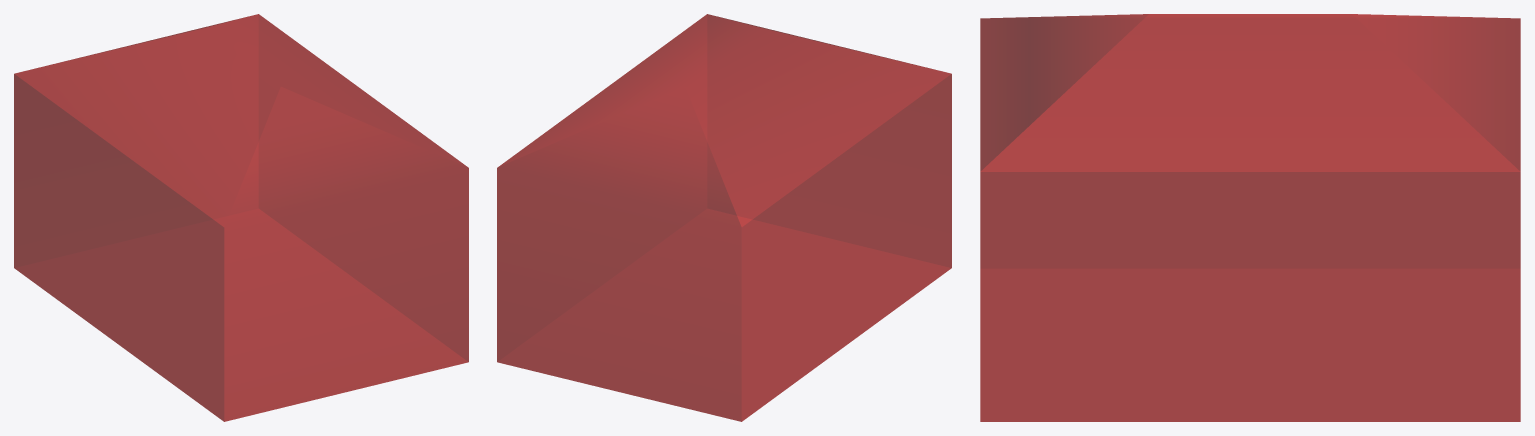
Rendered from SM_Bld_House_Preset_Garage_01_COLLISION.fbx.
The picture shows the model from 3 angles, left to right: view 1: azimuth 30°, elevation 25°; view 2: azimuth 150°, elevation 25°; view 3: azimuth 270°, elevation 25°; orthographic projection. The views are drawn at different scales.
Parts seen in each view (by area): view 1: SM_Bld_House_Preset_Garage_01_COLLISION; view 2: SM_Bld_House_Preset_Garage_01_COLLISION; view 3: SM_Bld_House_Preset_Garage_01_COLLISION.
Boxes of the visible parts, x1,y1,x2,y2 form: SM_Bld_House_Preset_Garage_01_COLLISION: [14, 14, 468, 421]; SM_Bld_House_Preset_Garage_01_COLLISION: [497, 14, 951, 421]; SM_Bld_House_Preset_Garage_01_COLLISION: [980, 14, 1520, 421].
Bounding box in the file's own units: 561 × 565 × 835.
